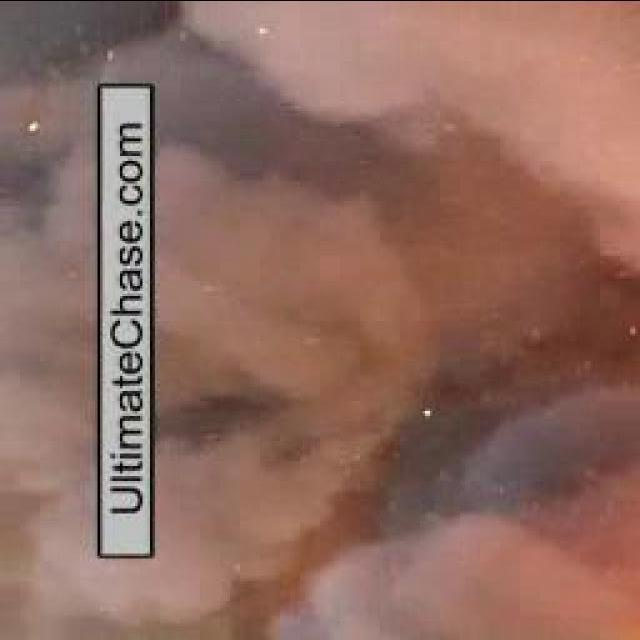Fire: (516, 487, 640, 637)
